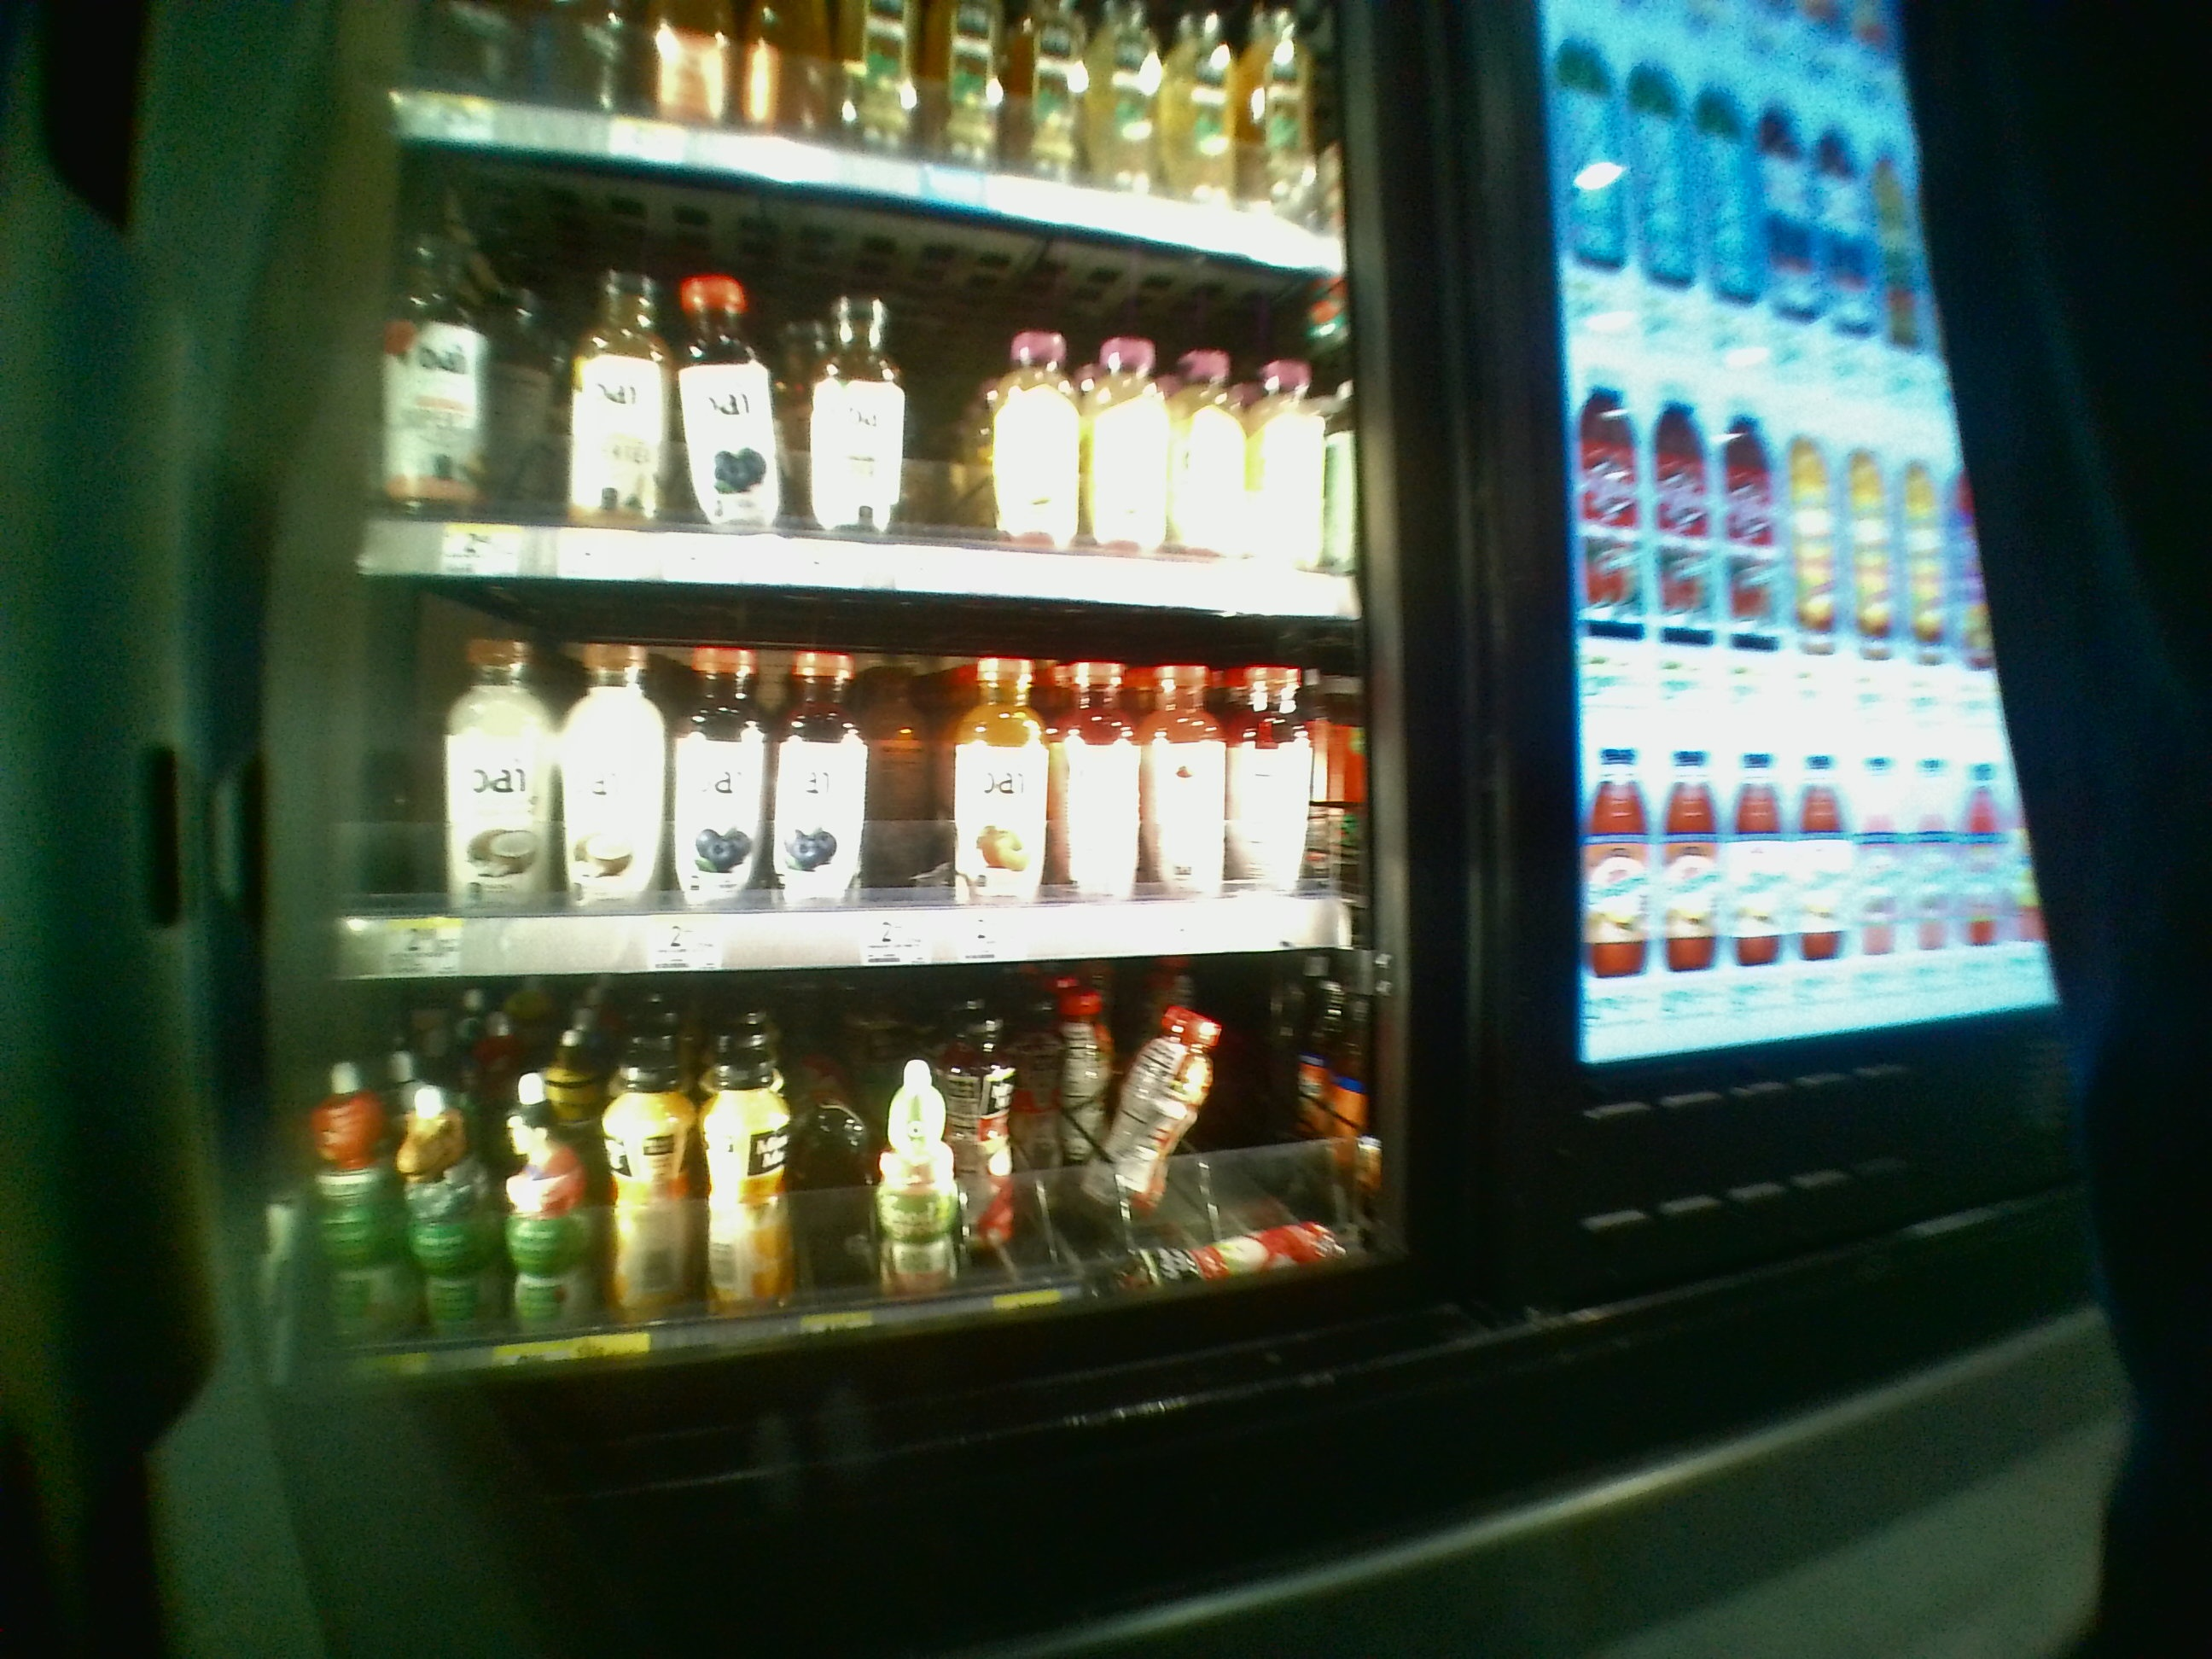shelf: (350, 139, 1362, 573), (341, 582, 1372, 979), (319, 993, 1388, 1364)
